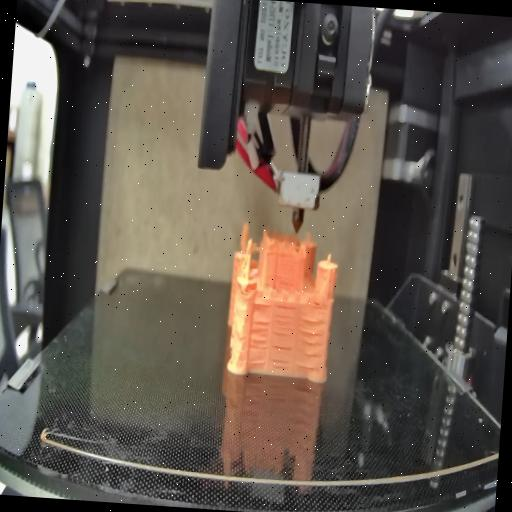cracks: (296, 316, 326, 372), (246, 320, 270, 363), (272, 303, 296, 339), (270, 340, 294, 370), (254, 300, 272, 314), (310, 298, 324, 308)
